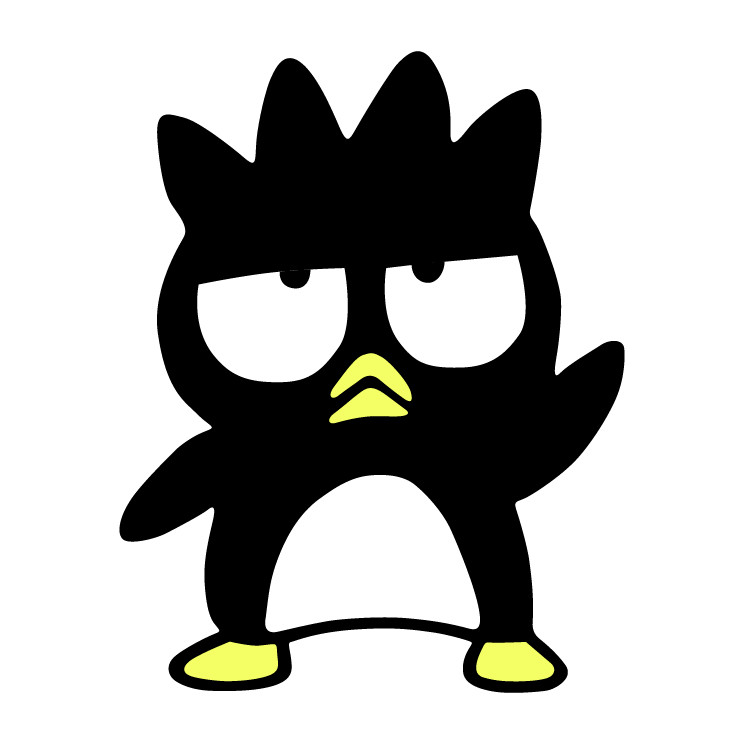batsumaru: (123, 52, 626, 694)
